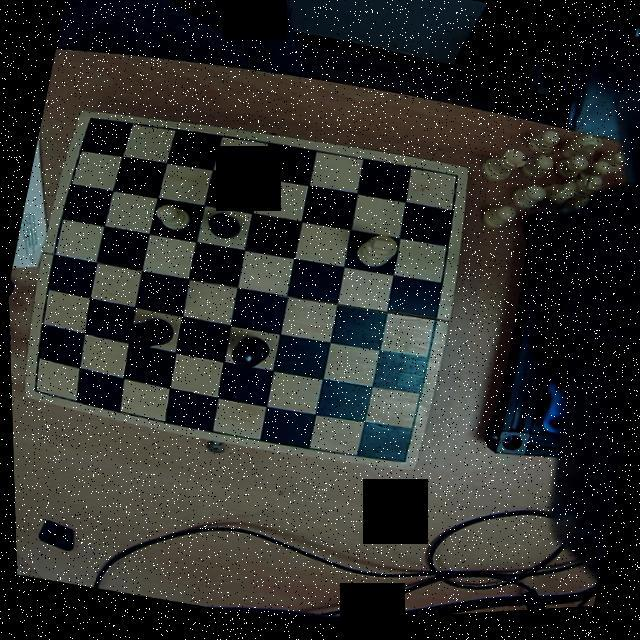chess-table-corners: (384, 448, 414, 474), (77, 108, 108, 130), (442, 170, 468, 196), (20, 374, 46, 397)
